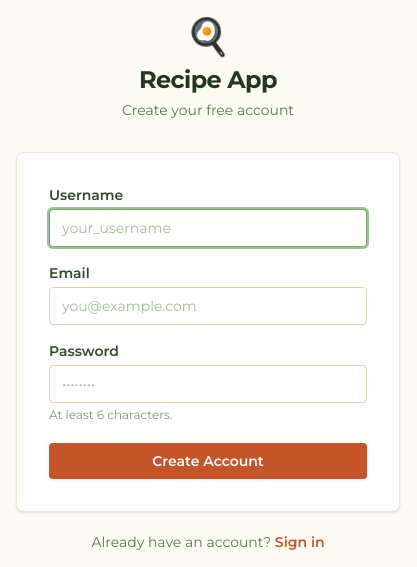
Scenario: RegisterPage › button shows "Creating account…" and is disabled while register() is pending
Type "bob" into the field with placeholder "your_username" at (208, 228), box [49,209,367,247]
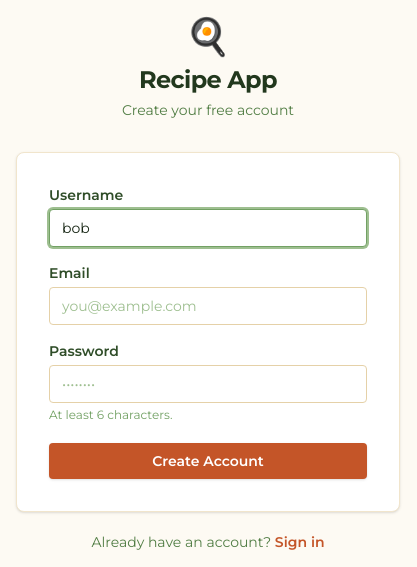
Type "bob@test.com" into the field with placeholder "you@example.com" at (208, 306), box [49,287,367,325]
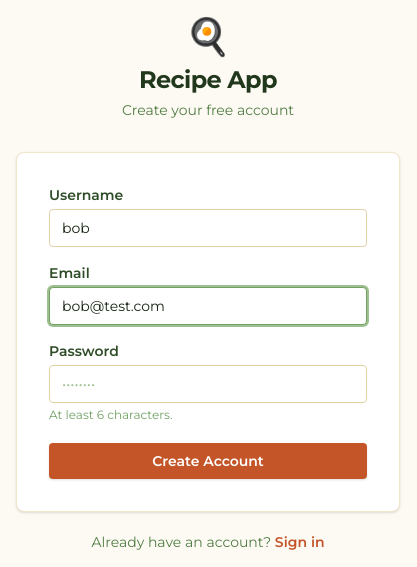
Type "pass123" into the password field with placeholder "••••••••" at (208, 384), box [49,365,367,403]
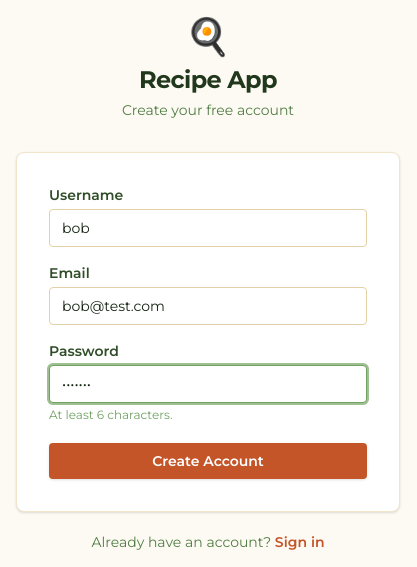
Click the button "Create Account" at (208, 461), box [49,443,367,479]
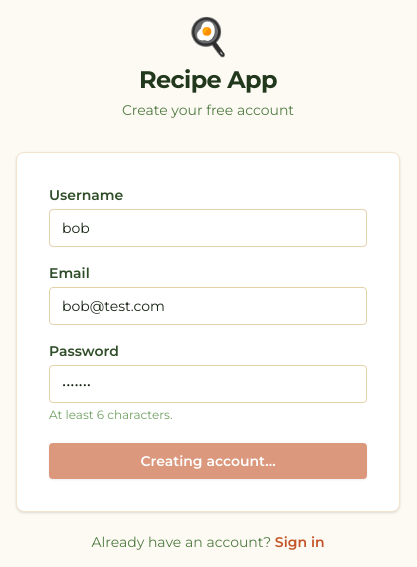
Check: the button "Creating account…" is disabled, box [49,443,367,479]
